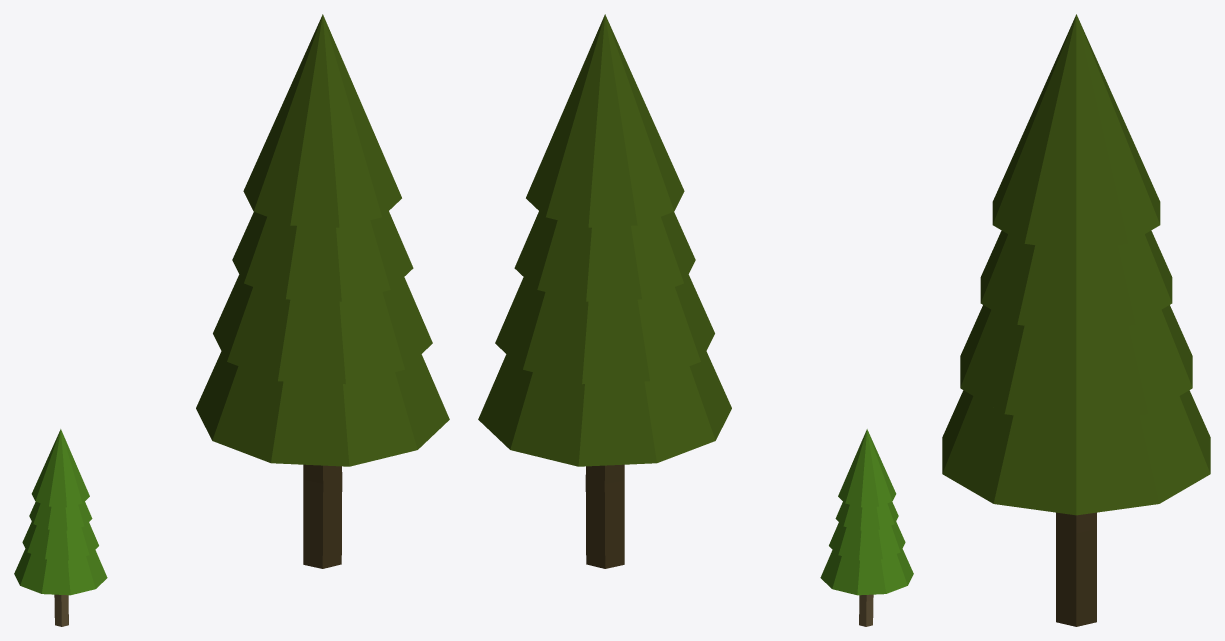
Rendered from pine trees.fbx.
3 views of the same model, side by side, from view 1: azimuth 30°, elevation 25°; view 2: azimuth 150°, elevation 25°; view 3: azimuth 270°, elevation 25° (orthographic). The views are drawn at different scales.
Parts seen in each view (by area): view 1: pCylinder10 (×2), pCylinder4 (×2), pCylinder9 (×2), pCylinder3 (×2), pCylinder2; view 2: pCylinder10 (×2), pCylinder4 (×2), pCylinder9 (×2), pCylinder3 (×2), pCylinder2; view 3: pCylinder10, pCylinder4, pCylinder9, pCylinder3, pCylinder2.
Boxes of the visible parts, x1=… form: pCylinder10 (×2): x1=14, y1=351, x2=449, y2=595; pCylinder4 (×2): x1=31, y1=14, x2=401, y2=507; pCylinder9 (×2): x1=22, y1=274, x2=432, y2=560; pCylinder3 (×2): x1=29, y1=211, x2=413, y2=530; pCylinder2: x1=303, y1=464, x2=342, y2=568; pCylinder10 (×2): x1=478, y1=351, x2=913, y2=595; pCylinder4 (×2): x1=526, y1=14, x2=896, y2=507; pCylinder9 (×2): x1=495, y1=274, x2=905, y2=560; pCylinder3 (×2): x1=514, y1=211, x2=898, y2=530; pCylinder2: x1=585, y1=464, x2=624, y2=568; pCylinder10: x1=942, y1=390, x2=1210, y2=515; pCylinder4: x1=992, y1=14, x2=1160, y2=250; pCylinder9: x1=960, y1=305, x2=1192, y2=423; pCylinder3: x1=980, y1=230, x2=1172, y2=332; pCylinder2: x1=1056, y1=512, x2=1096, y2=626.
Bounding box in the file's own units: 3665 × 4625 × 1865.
